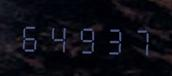four: (45, 18, 71, 55)
nine: (72, 19, 98, 56)
seven: (126, 21, 152, 58)
six: (18, 17, 44, 54)
three: (99, 20, 125, 57)
